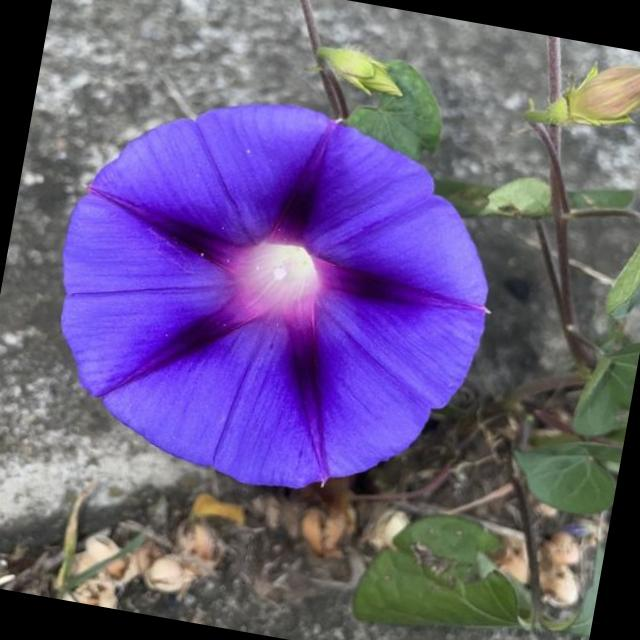ipomoea: (23, 66, 523, 524)
